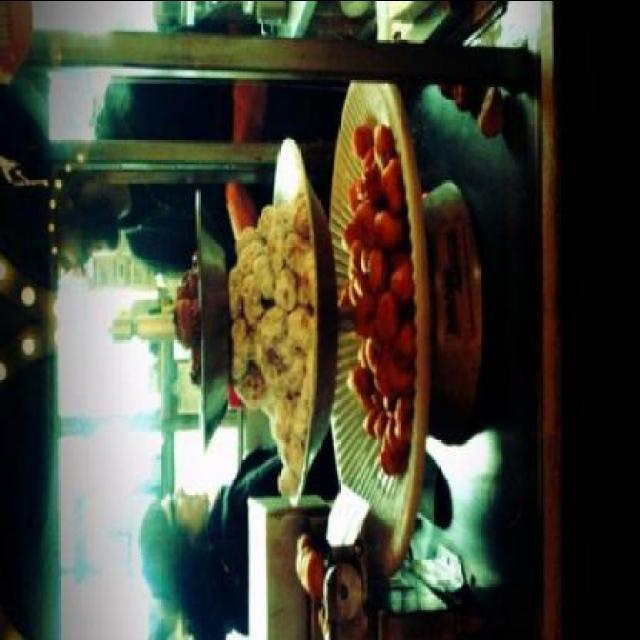Donuts: (227, 117, 331, 468), (168, 268, 200, 388)
